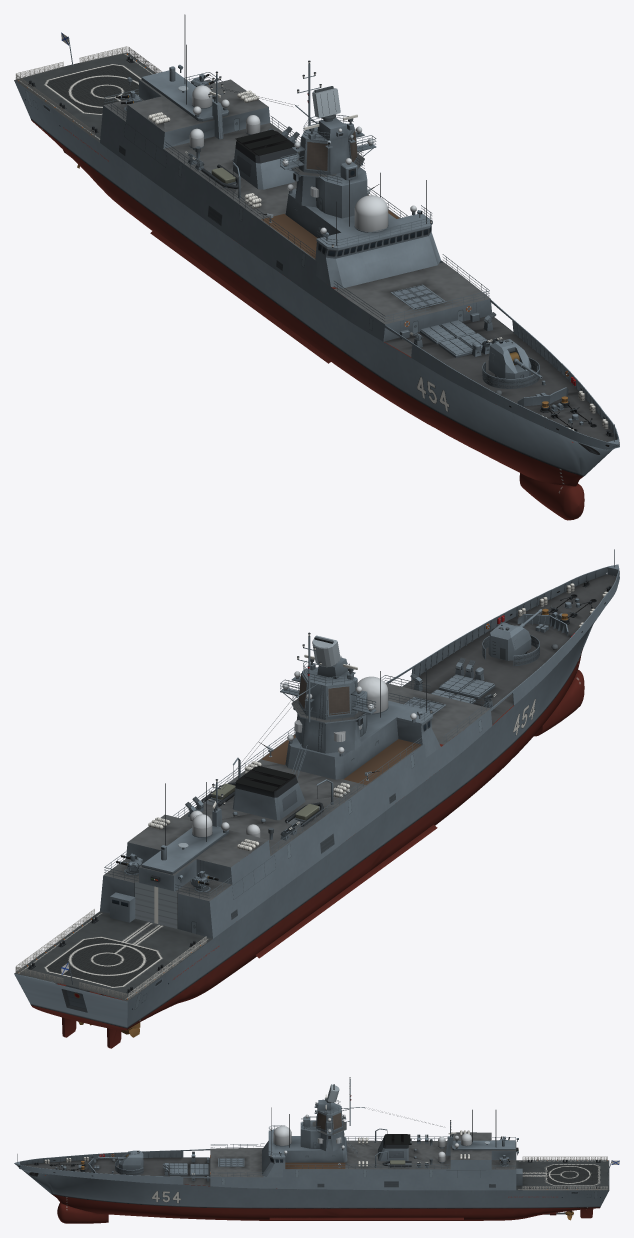
File: admiral_gorshkov_class_frigate.glb
3 renders of one model, top to bottom at view 1: azimuth 30°, elevation 25°; view 2: azimuth 150°, elevation 25°; view 3: azimuth 270°, elevation 25°, orthographic. The views are drawn at different scales.
Parts seen in each view (by area): view 1: Hull, Superstructure, Sensors, Weapons, Forecastle, A192M, Appendages, Furke4, Boats; view 2: Hull, Superstructure, Sensors, Weapons, Forecastle, Appendages, Boats, A192M, Furke4; view 3: Hull, Superstructure, Sensors, Weapons, Appendages, Forecastle, Boats, A192M, Furke4.
Boxes of the visible parts, <box> form: Hull: <box>14,32,619,520</box>; Superstructure: <box>103,14,491,341</box>; Sensors: <box>178,85,432,247</box>; Weapons: <box>124,106,539,388</box>; Forecastle: <box>399,312,617,441</box>; A192M: <box>488,339,531,383</box>; Appendages: <box>63,150,332,363</box>; Furke4: <box>304,86,357,139</box>; Boats: <box>201,151,299,208</box>; Hull: <box>14,564,619,1030</box>; Superstructure: <box>100,632,490,938</box>; Sensors: <box>178,663,432,849</box>; Weapons: <box>124,635,539,892</box>; Forecastle: <box>414,549,616,675</box>; Appendages: <box>62,824,437,1048</box>; Boats: <box>201,757,349,826</box>; A192M: <box>488,622,531,660</box>; Furke4: <box>304,635,357,679</box>; Hull: <box>14,1132,619,1223</box>; Superstructure: <box>210,1077,518,1177</box>; Sensors: <box>270,1101,489,1163</box>; Weapons: <box>115,1134,508,1180</box>; Appendages: <box>269,1208,593,1220</box>; Forecastle: <box>17,1150,209,1181</box>; Boats: <box>358,1128,411,1167</box>; A192M: <box>119,1150,143,1171</box>; Furke4: <box>315,1084,339,1113</box>.
Size of the model in its own units: 17.2 by 36.35 by 137.
Materials: 3 (3 with a texture image).
